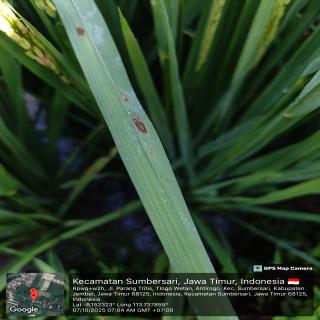Blast: (128, 111, 151, 137), (74, 25, 88, 39), (118, 92, 132, 102), (146, 145, 156, 157)
